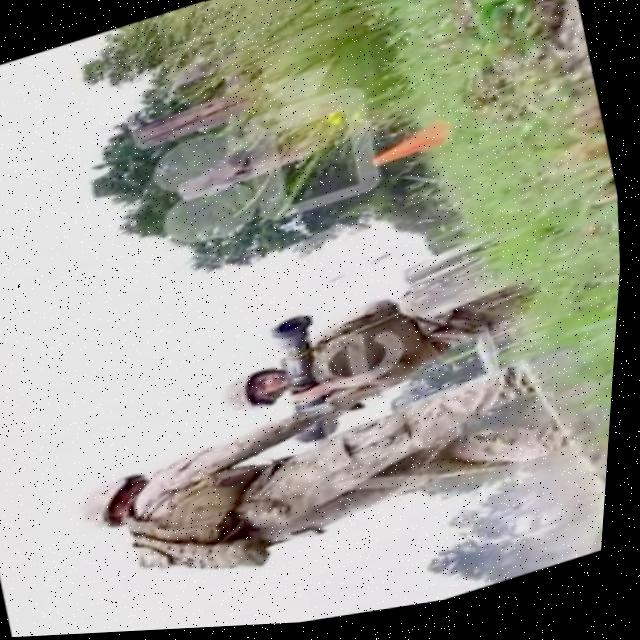rocket: (265, 310, 348, 455)
